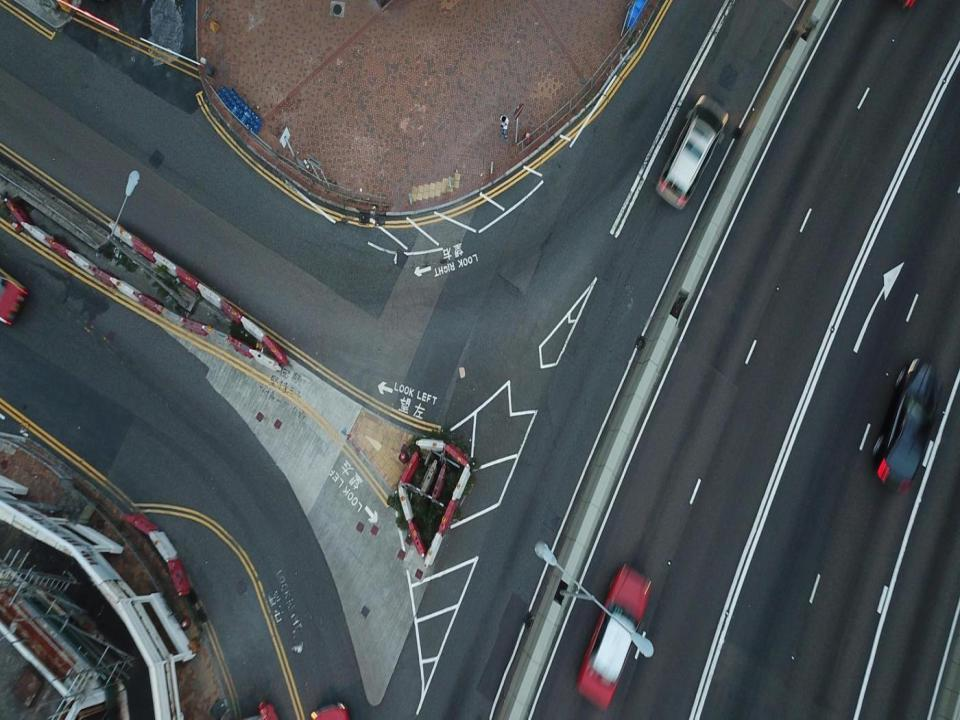car: (580, 560, 652, 706), (872, 356, 943, 492), (0, 265, 29, 329), (308, 699, 348, 719)
van: (656, 96, 730, 209)
